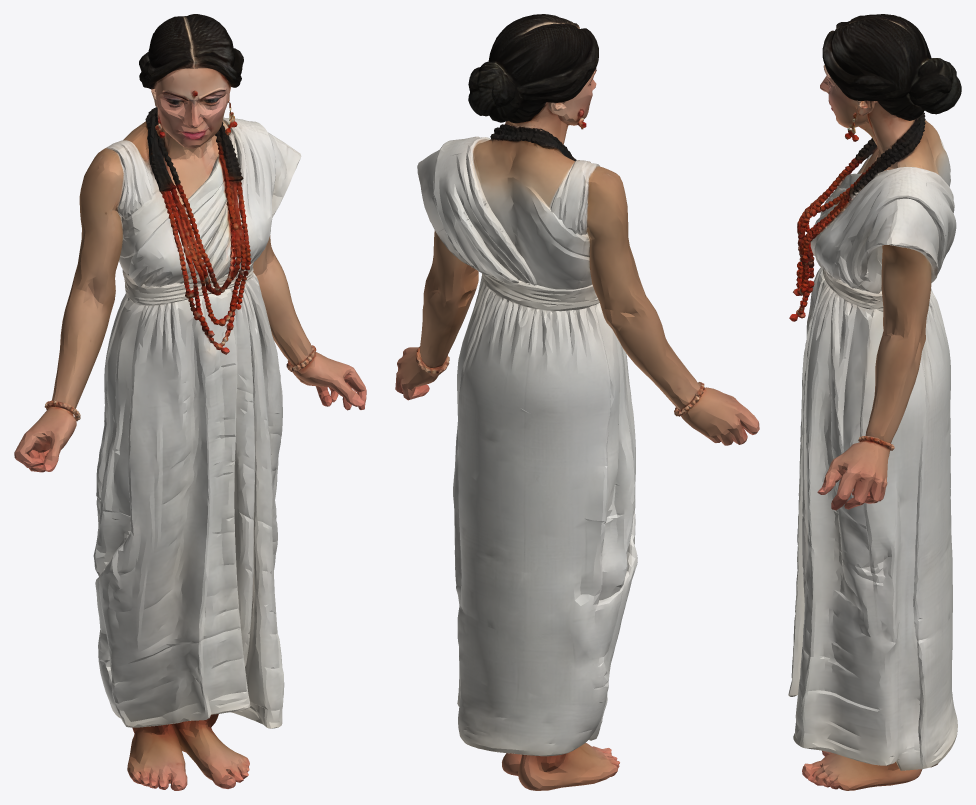
File: shamhat_rodin_source.glb
The picture shows the model from 3 angles, left to right: view 1: azimuth 30°, elevation 25°; view 2: azimuth 150°, elevation 25°; view 3: azimuth 270°, elevation 25°; orthographic projection.
Parts seen in each view (by area): view 1: model; view 2: model; view 3: model.
Part boxes in pixels (bbox=[...]): model: bbox=[14, 14, 366, 790]; model: bbox=[395, 14, 759, 790]; model: bbox=[788, 14, 961, 790].
Size of the model in its own units: 0.9403 by 1.9 by 0.3929.
Materials: 1 (1 with a texture image).
